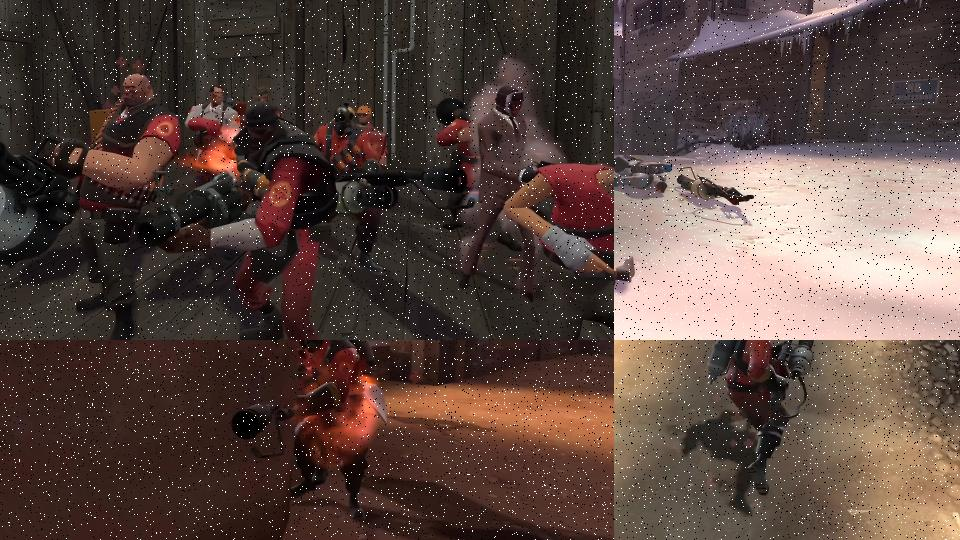Enemy: (0, 69, 224, 314), (190, 91, 406, 268), (229, 340, 370, 522), (512, 135, 614, 340), (701, 340, 827, 501), (309, 95, 405, 262), (472, 77, 540, 287), (291, 340, 388, 425), (434, 89, 487, 200), (186, 84, 242, 167), (614, 152, 672, 195), (354, 103, 378, 129)
